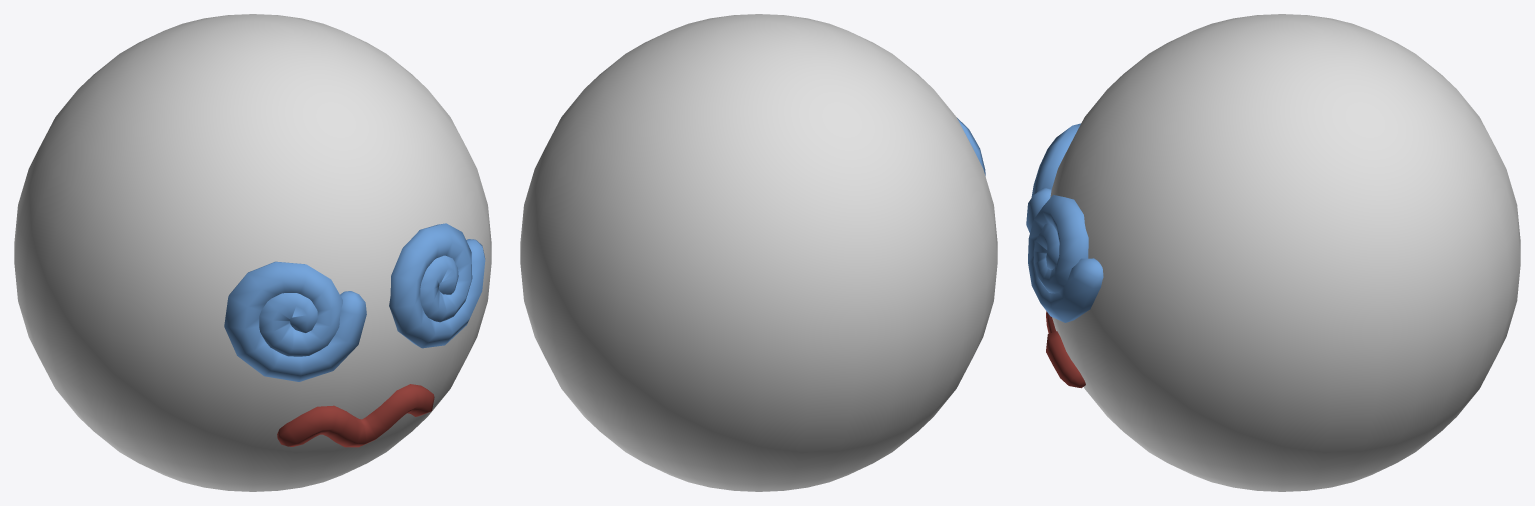
File: face_dizzy.glb
3 renders of one model, left to right at view 1: azimuth 30°, elevation 25°; view 2: azimuth 150°, elevation 25°; view 3: azimuth 270°, elevation 25°, orthographic.
Visible parts, largest first — view 1: face_dizzy; view 2: face_dizzy; view 3: face_dizzy.
Boxes of the visible parts, left/top/right/bottom form: face_dizzy: left=14, top=14, right=491, bottom=491; face_dizzy: left=520, top=14, right=997, bottom=491; face_dizzy: left=1026, top=14, right=1520, bottom=491.
Bounding box in the file's own units: 1 × 1 × 1.03.
